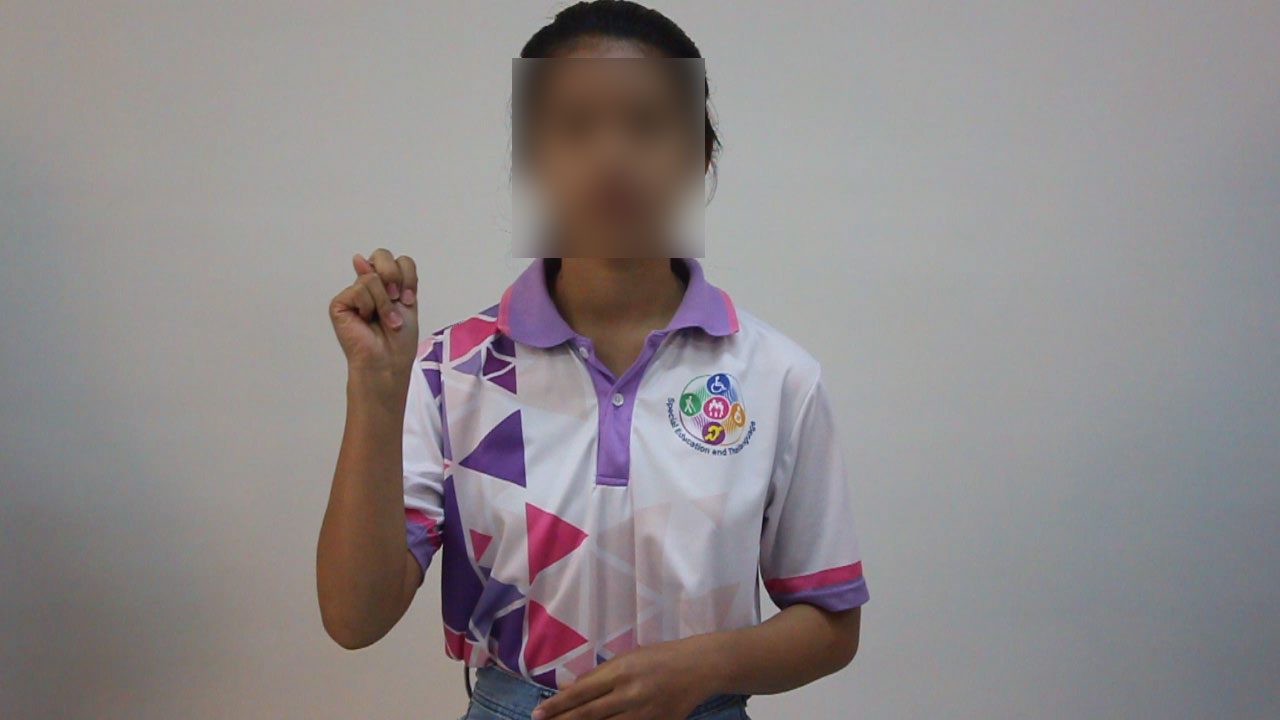nor: (316, 238, 444, 377)
